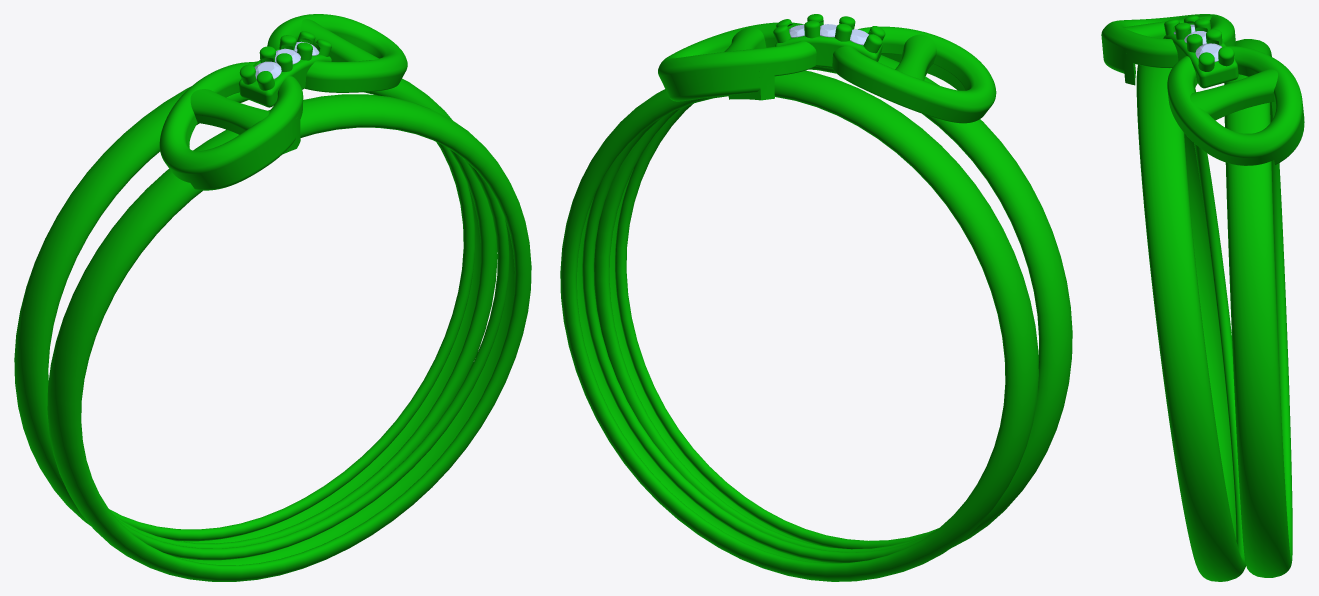
3 views of the same model, side by side, from view 1: azimuth 30°, elevation 25°; view 2: azimuth 150°, elevation 25°; view 3: azimuth 270°, elevation 25° (orthographic).
Parts seen in each view (by area): view 1: 2.3dm; view 2: 2.3dm; view 3: 2.3dm.
Part boxes in pixels (bbox=[...]): 2.3dm: bbox=[14, 14, 531, 581]; 2.3dm: bbox=[560, 14, 1072, 581]; 2.3dm: bbox=[1101, 14, 1304, 581].
Size of the model in its own units: 2.63 by 2.85 by 0.9873.
